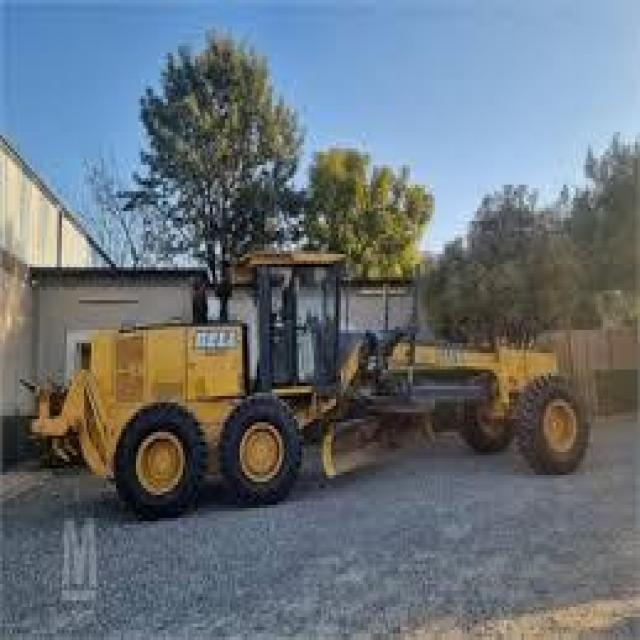buldozerpayloadergrader: (20, 224, 622, 541)
